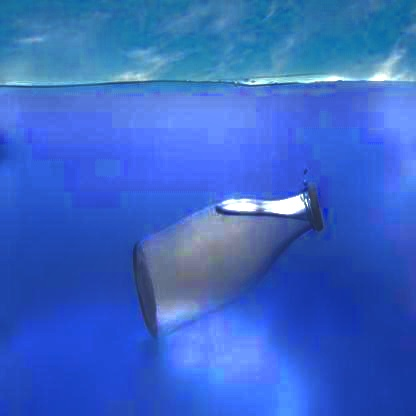gbottle: (132, 185, 324, 336)
